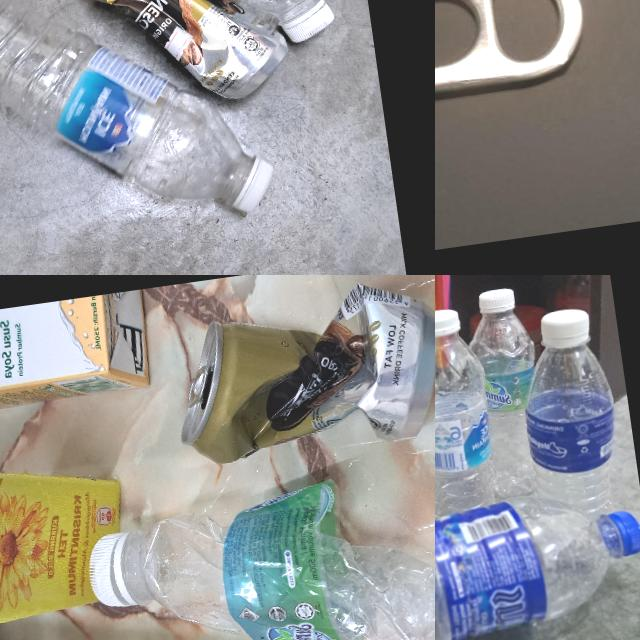aba de lata: (435, 0, 591, 107), (182, 365, 212, 408)
caixinha: (0, 438, 138, 634), (0, 289, 160, 422)
garrafa plástica: (0, 0, 258, 242), (114, 449, 435, 640), (435, 492, 629, 640), (513, 338, 627, 526), (462, 317, 556, 497), (435, 329, 504, 534)
lata: (164, 275, 435, 470), (74, 0, 298, 121)
tampa plástica: (83, 530, 135, 611), (228, 158, 277, 216), (536, 306, 593, 354), (280, 2, 339, 48), (602, 507, 640, 564), (477, 284, 518, 317), (435, 306, 461, 346)
